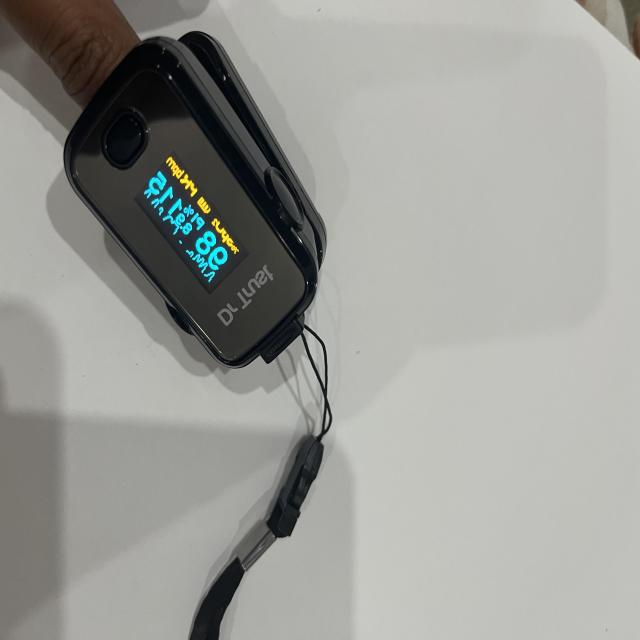spo2: (62, 31, 326, 375)
